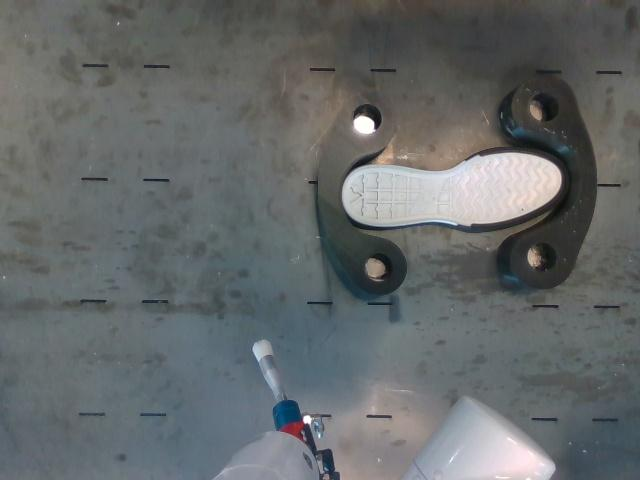shoes: (342, 148, 569, 228)
